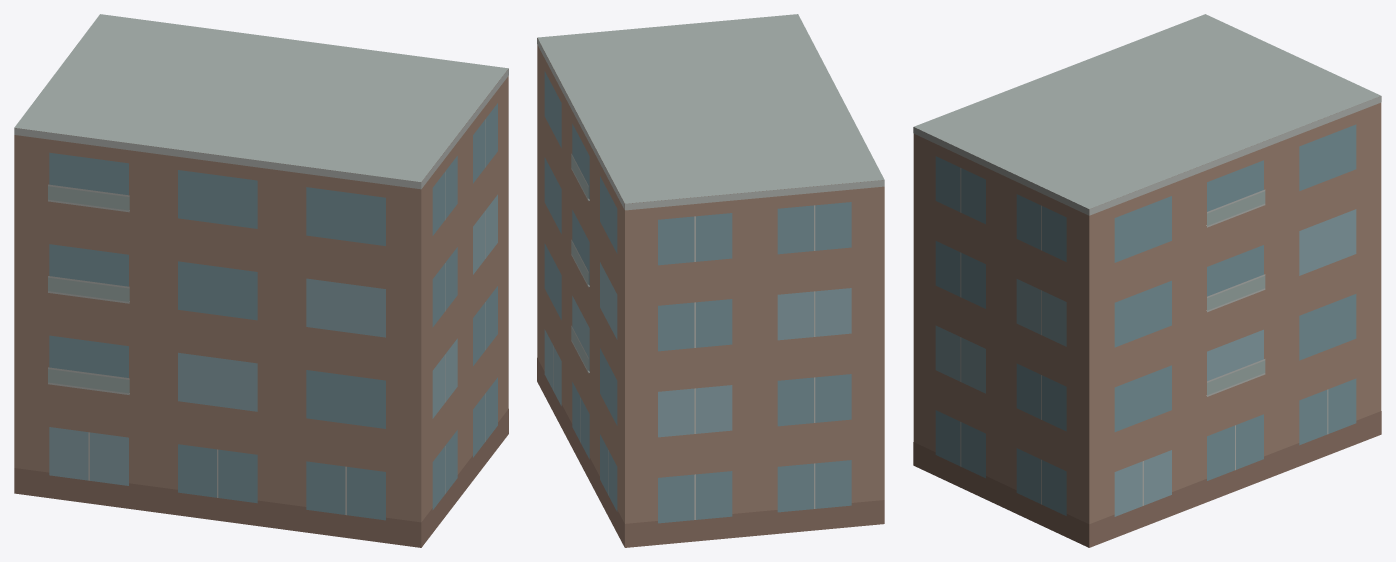
File: survey-upis-32938428.glb
3 views of the same model, side by side, from view 1: azimuth 30°, elevation 25°; view 2: azimuth 150°, elevation 25°; view 3: azimuth 270°, elevation 25° (orthographic). The views are drawn at different scales.
Parts seen in each view (by area): view 1: survey-upis-32938428.tmp; view 2: survey-upis-32938428.tmp; view 3: survey-upis-32938428.tmp.
Boxes of the visible parts, box(x1,y1,x2,y2) form: survey-upis-32938428.tmp: box(14, 14, 508, 547); survey-upis-32938428.tmp: box(537, 14, 884, 547); survey-upis-32938428.tmp: box(913, 14, 1381, 547).
Bounding box in the file's own units: 15.46 × 12.5 × 15.66.
